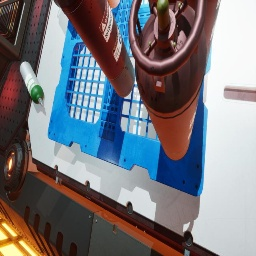0: (20, 61, 44, 107), (108, 0, 120, 8)
NitrogenTank ,: (128, 0, 207, 161), (57, 0, 135, 98), (177, 0, 221, 76), (148, 0, 158, 15), (53, 0, 61, 8)
